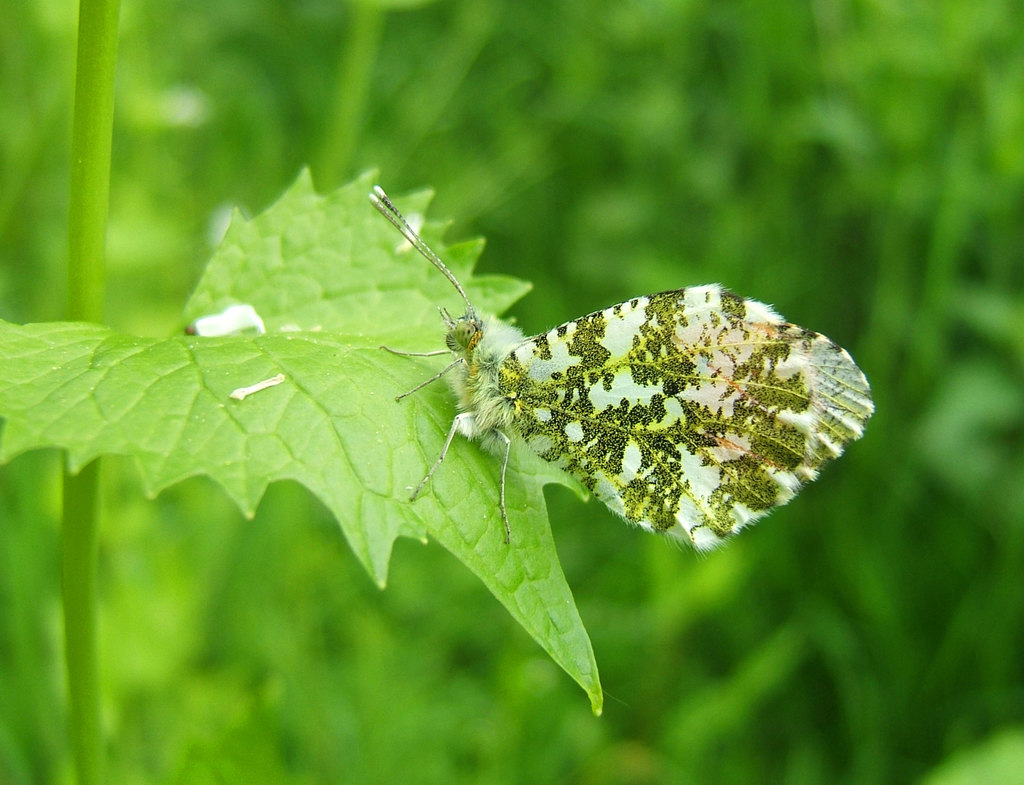Butterfly: (376, 200, 921, 549)
